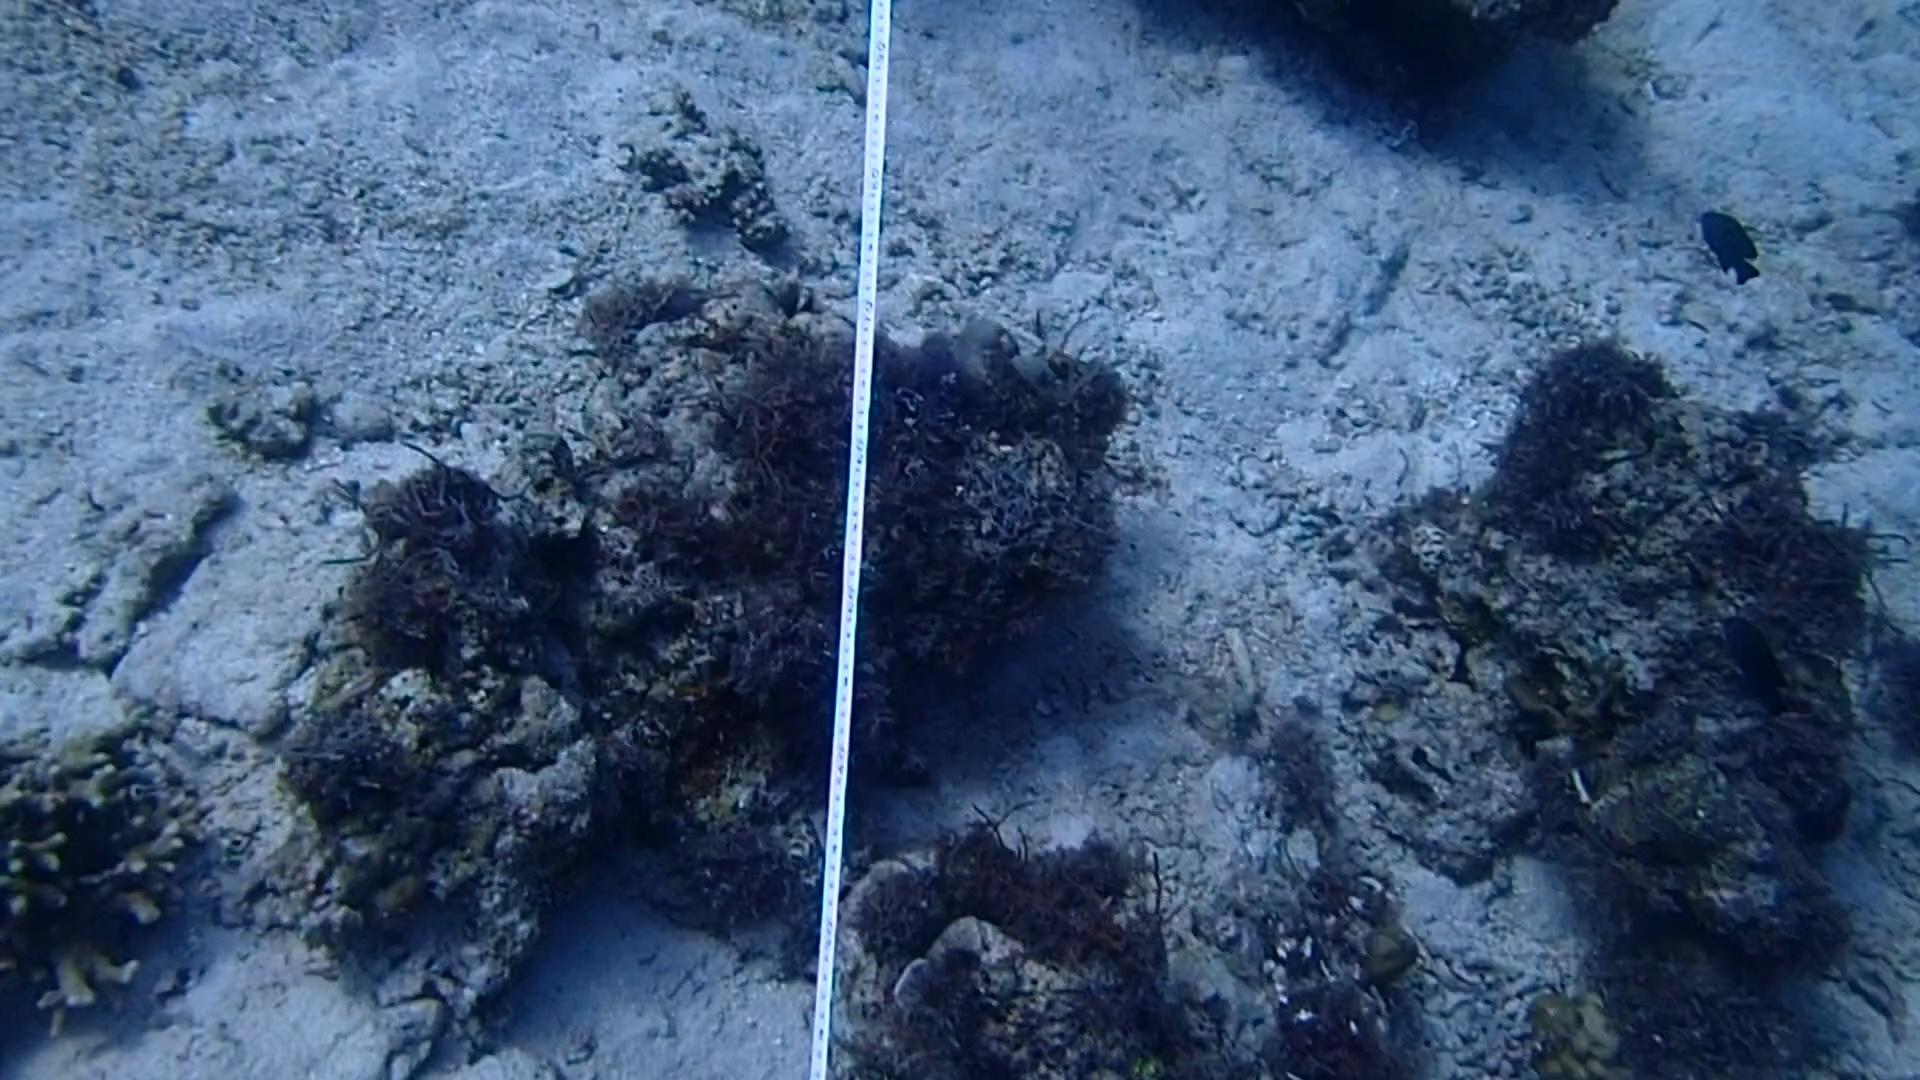Dark Fish: (1708, 593, 1792, 711), (1685, 194, 1775, 295)
